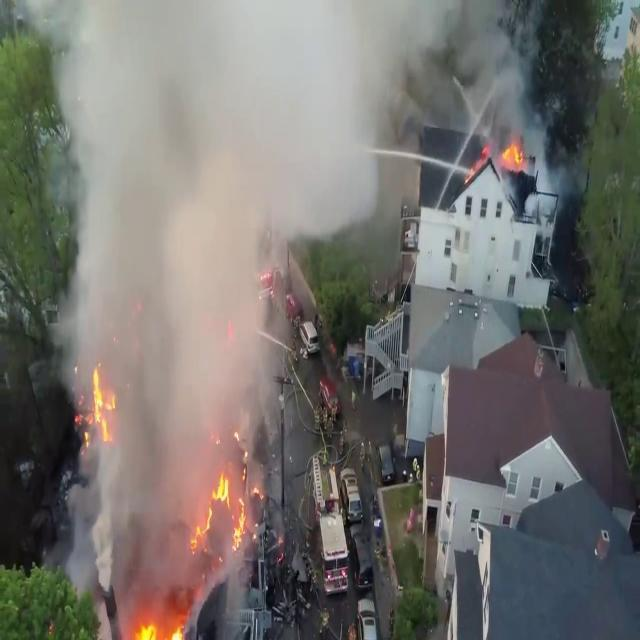Fire: (190, 465, 256, 555), (81, 366, 117, 448), (125, 606, 188, 640), (500, 136, 528, 176)
Smoke: (41, 0, 312, 596)
